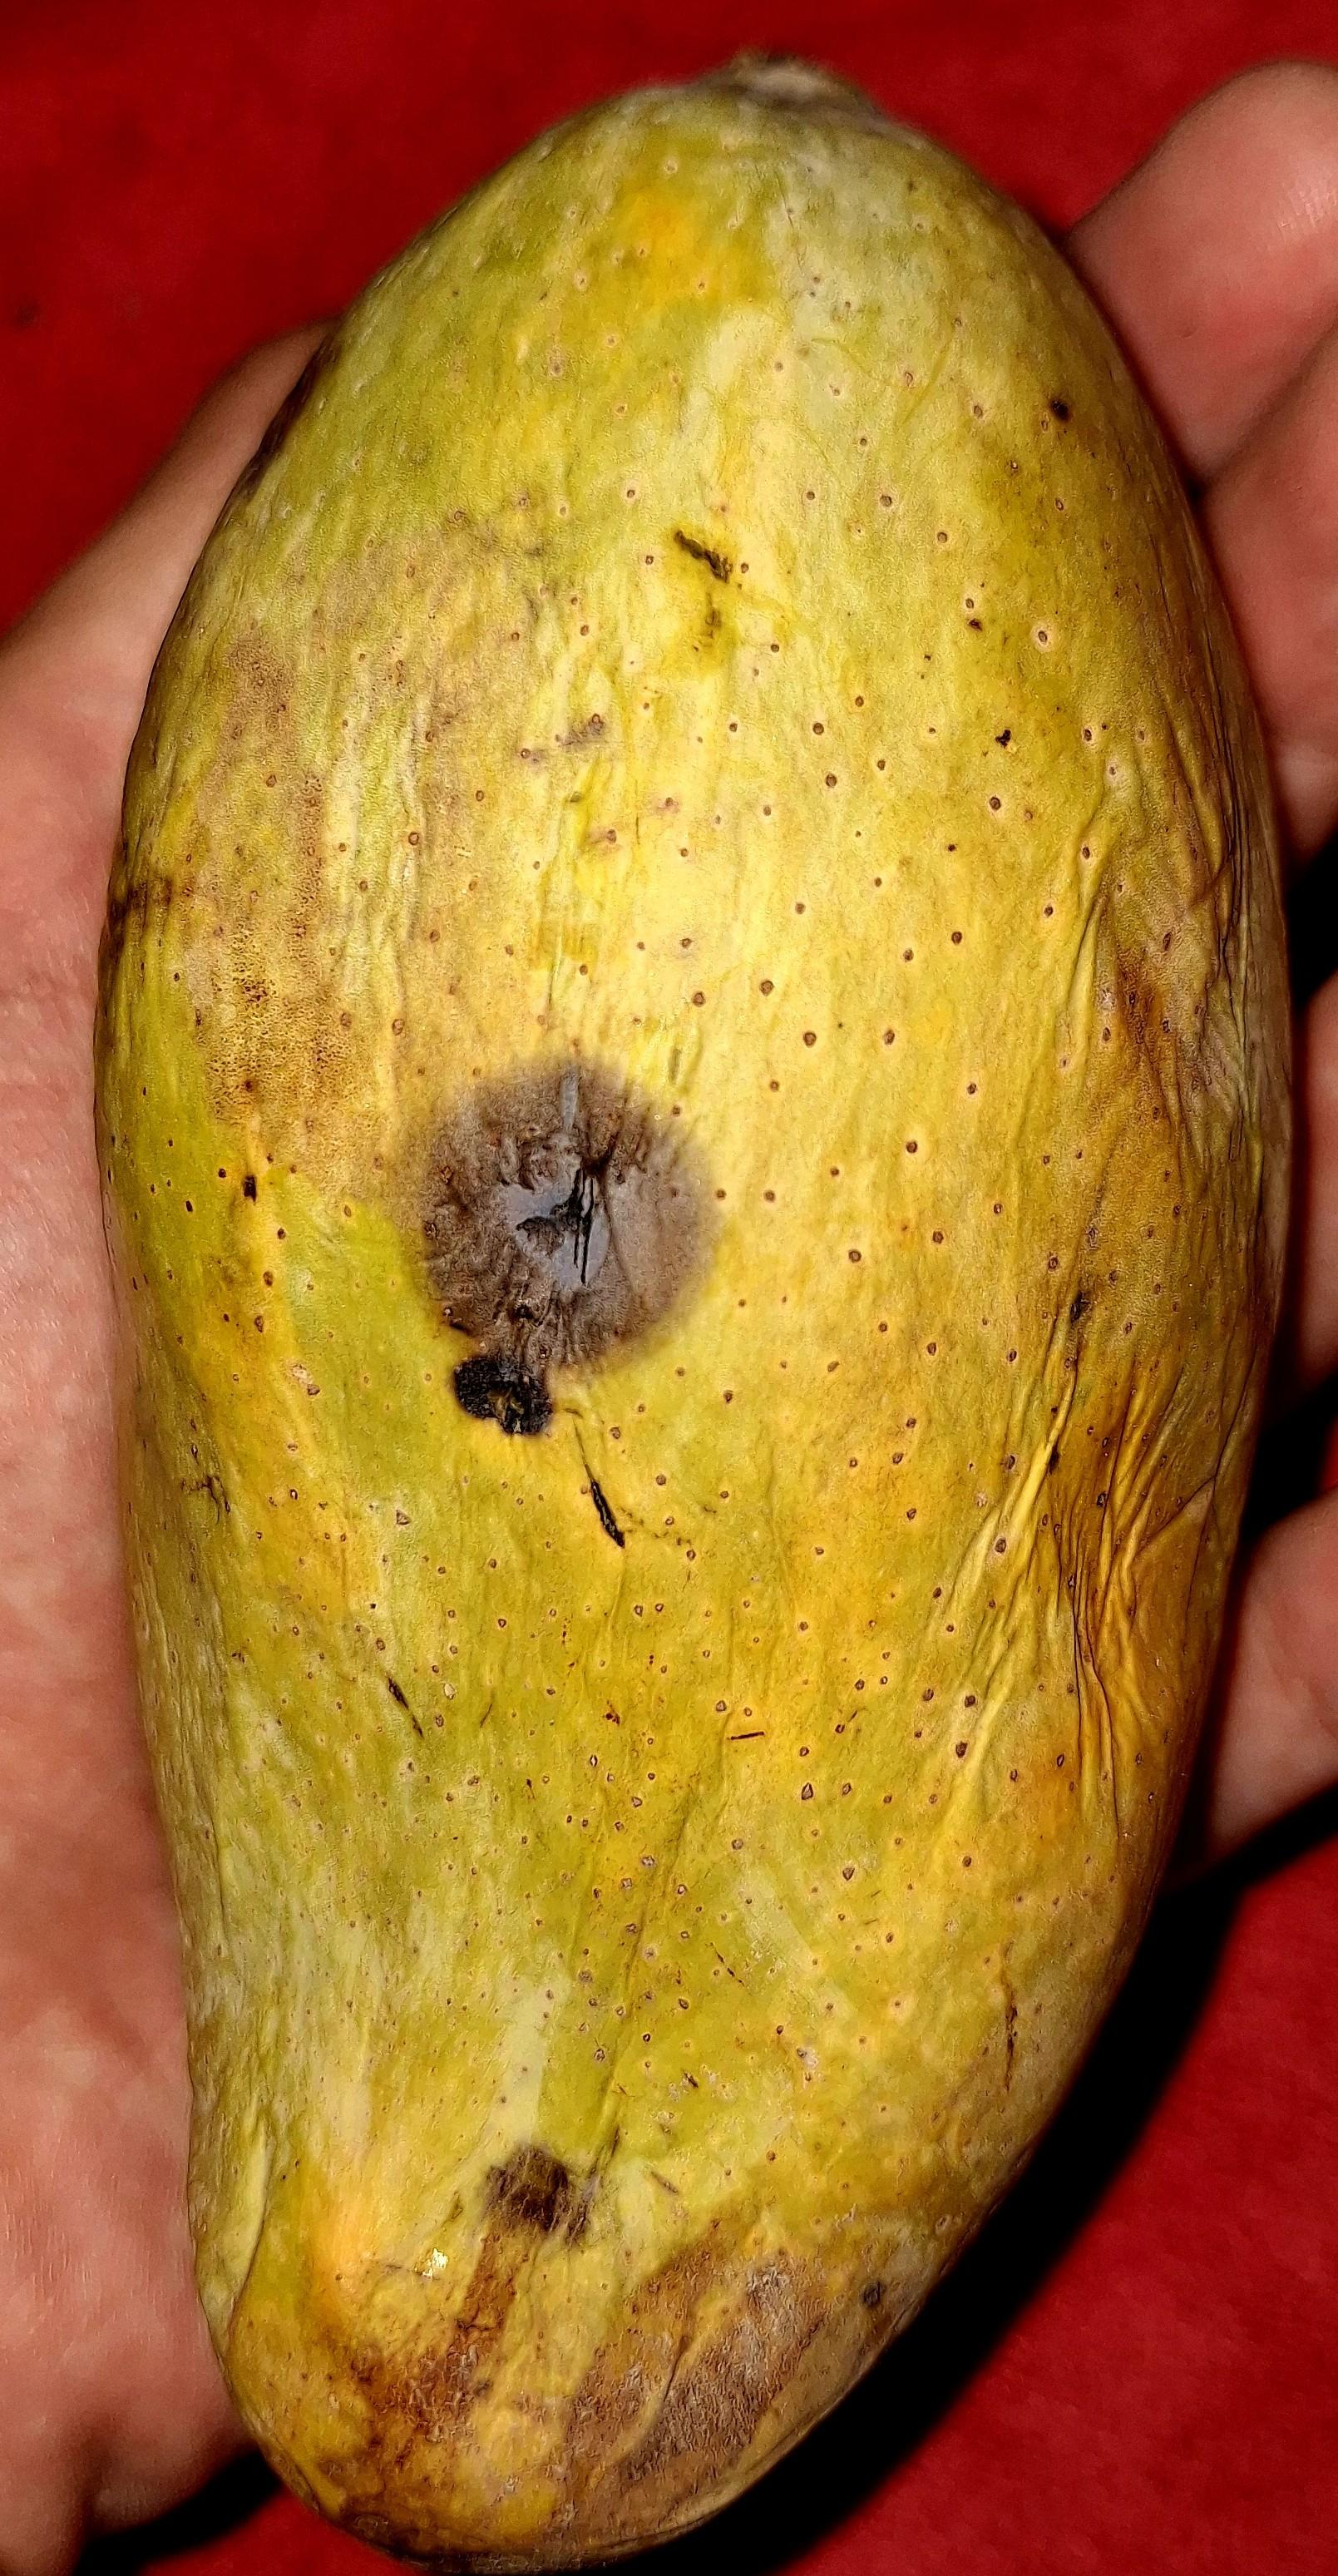mango: (92, 51, 1295, 2569)
